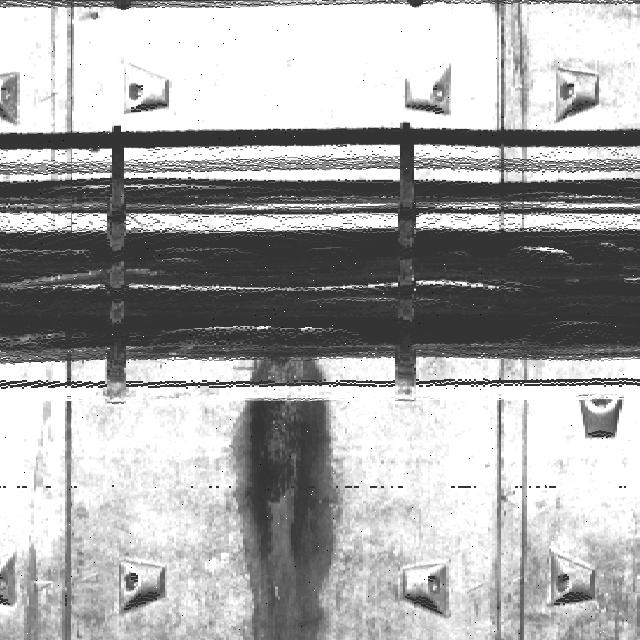leakage: (223, 353, 351, 640)
